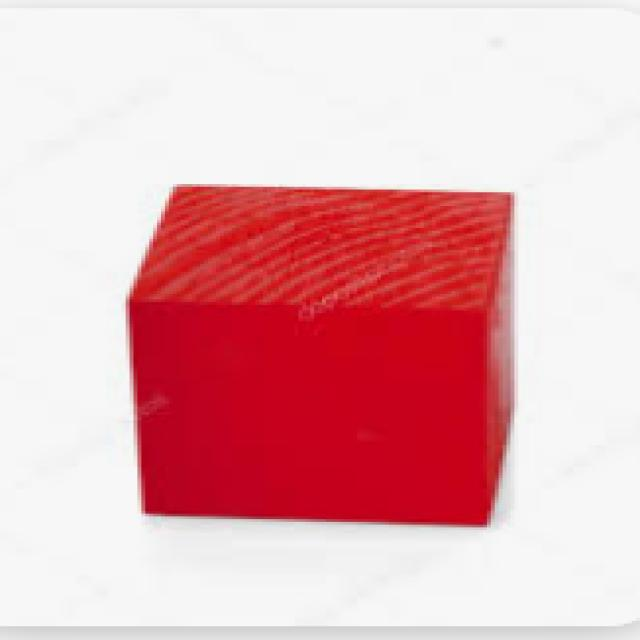red cube: (124, 180, 522, 527)
